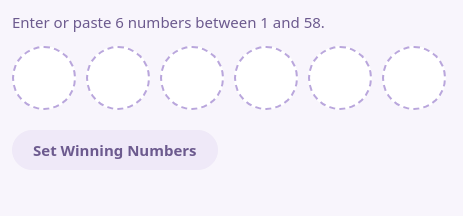
Test case: WinningInputComponent › says which number is out of range, and marks its field
Type "59" into the 3rd number field at (192, 78), box [160,46,224,110]
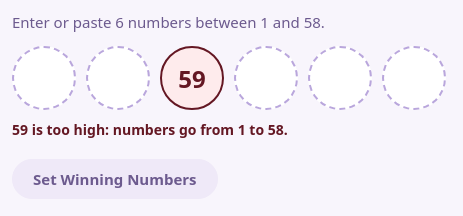
Result: the text with id "winning-problem" reads "59 is too high: numbers go from 1 to 58." at [12,120,288,139]
